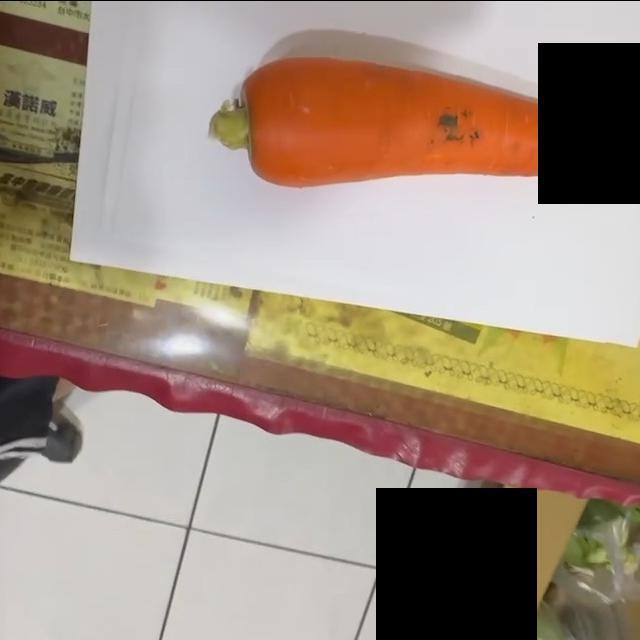carrot: (211, 58, 638, 192)
